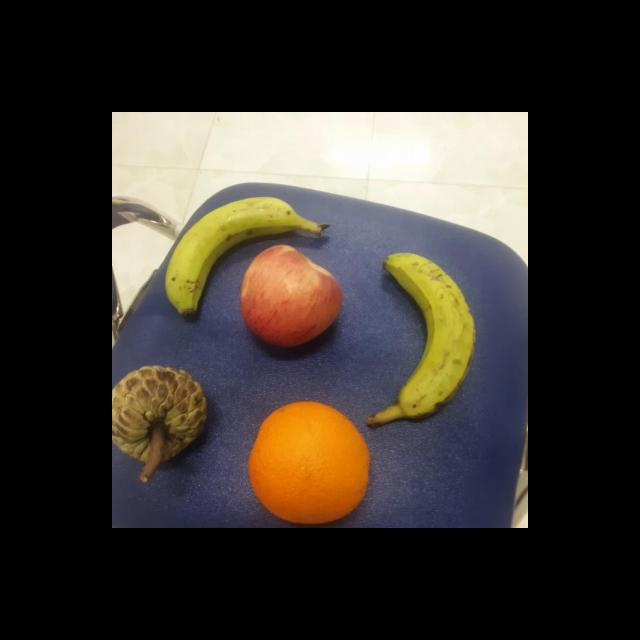Sakya fruit: (113, 362, 210, 462)
apple: (238, 243, 345, 352)
banana: (380, 250, 480, 420), (164, 194, 300, 318)
orange: (248, 401, 374, 524)
